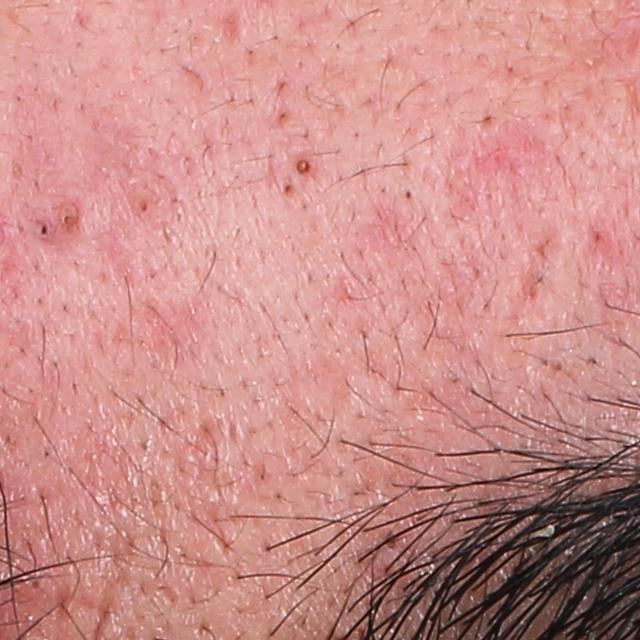comedo: (291, 154, 317, 178), (60, 212, 79, 228), (139, 195, 153, 215), (36, 220, 51, 238)
